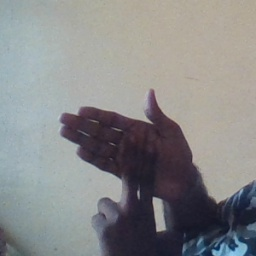N: (53, 86, 176, 238)
